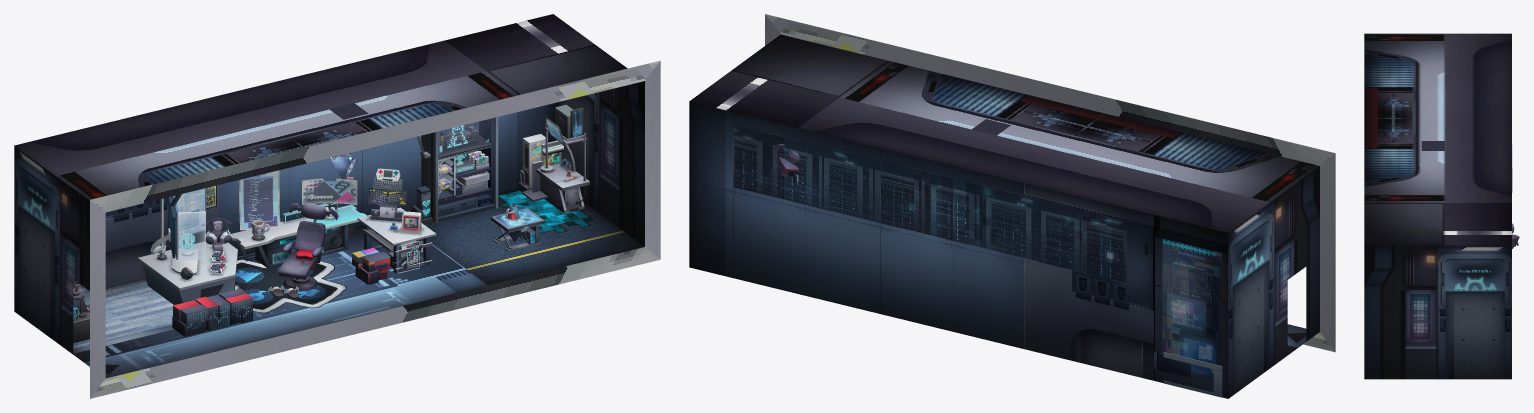
File: closureRoom.glb
3 renders of one model, left to right at view 1: azimuth 30°, elevation 25°; view 2: azimuth 150°, elevation 25°; view 3: azimuth 270°, elevation 25°, orthographic. The views are drawn at different scales.
Visible parts, largest first — view 1: room, floor, frame, computerdesk, officedesk, cabinet, workbench, equipmentdesk, carpet_01, chair, ledchair, carpet_02 (+4 smaller); view 2: room, frame, shelf; view 3: room, ceilingLight.
Boxes of the visible parts, left/top/right/bottom form: room: left=14, top=14, right=644, bottom=354; floor: left=73, top=188, right=644, bottom=378; frame: left=90, top=60, right=660, bottom=398; computerdesk: left=138, top=188, right=237, bottom=304; officedesk: left=230, top=170, right=366, bottom=268; cabinet: left=411, top=117, right=498, bottom=223; workbench: left=518, top=104, right=589, bottom=213; equipmentdesk: left=357, top=168, right=436, bottom=273; carpet_01: left=235, top=259, right=346, bottom=312; chair: left=268, top=203, right=338, bottom=298; ledchair: left=172, top=288, right=252, bottom=336; carpet_02: left=498, top=190, right=593, bottom=233; room: left=689, top=34, right=1319, bottom=398; frame: left=765, top=14, right=1335, bottom=352; shelf: left=1163, top=352, right=1222, bottom=397; room: left=1364, top=33, right=1511, bottom=379; ceilingLight: left=1421, top=141, right=1444, bottom=150.
Size of the model in its own units: 7.92 by 2.64 by 2.32.
7 materials, 7 textured.
